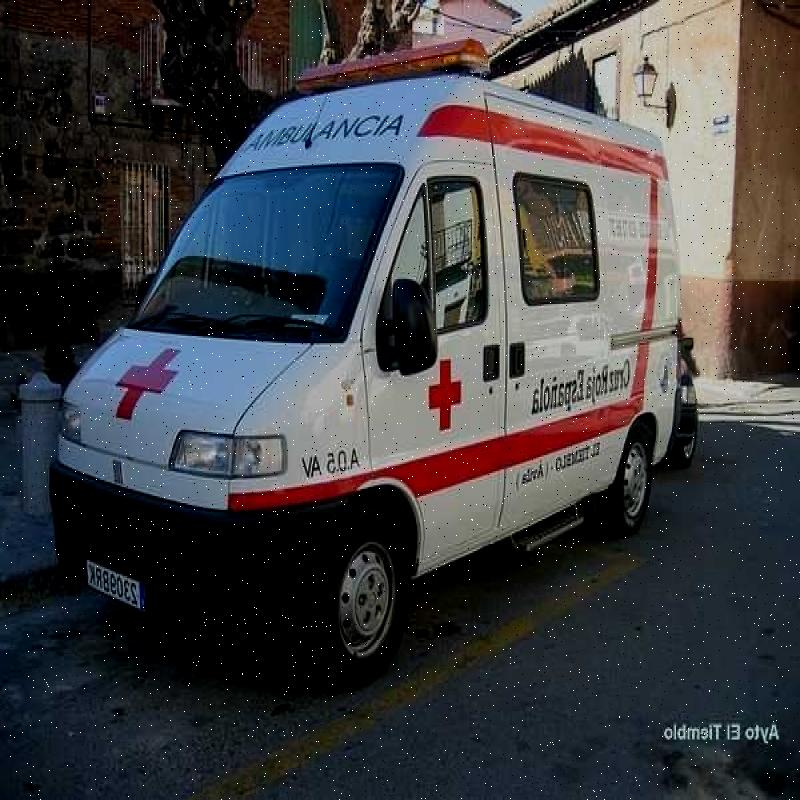ambulance: (8, 72, 706, 681)
